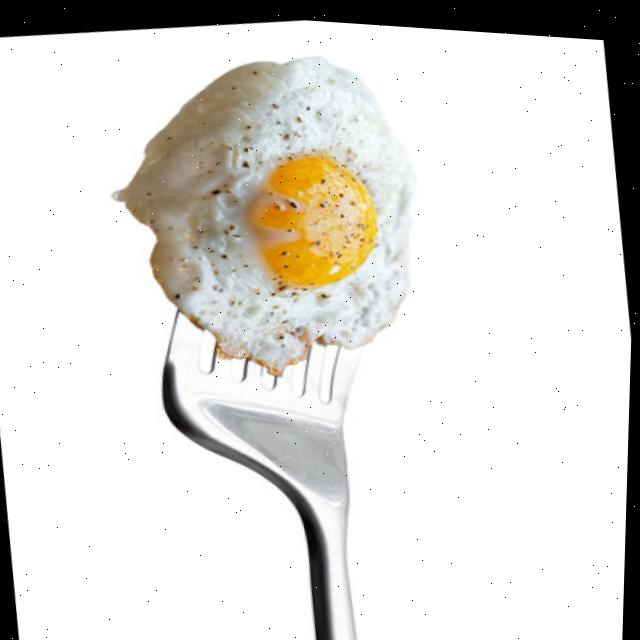Egg: (115, 52, 411, 369)
